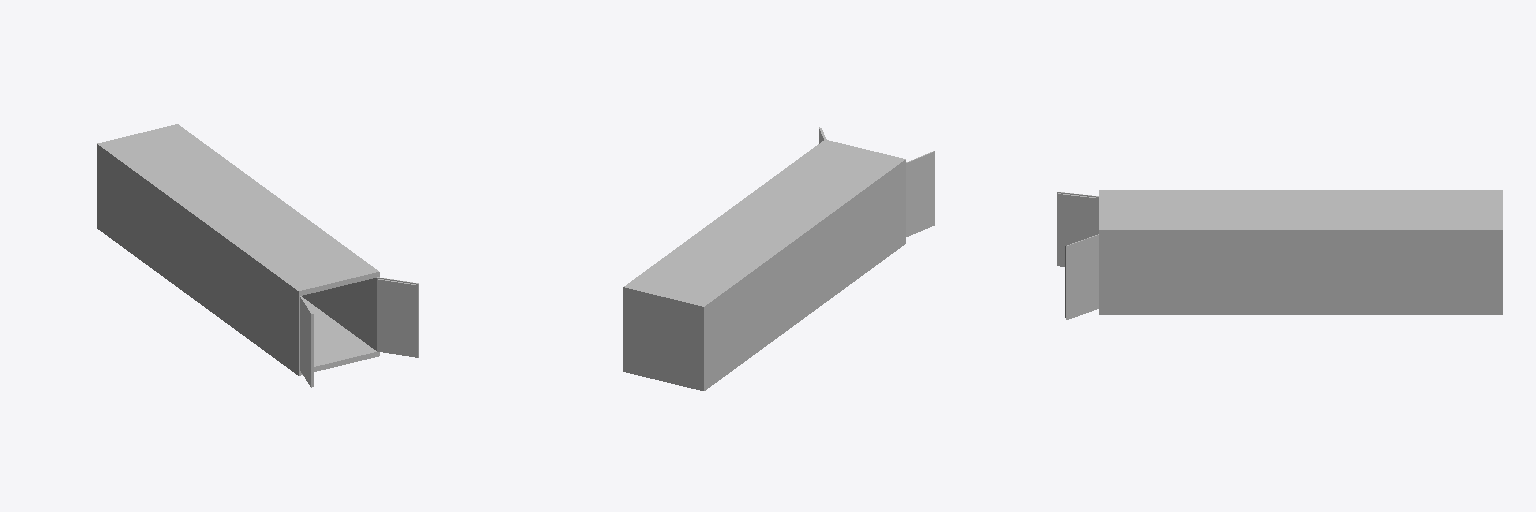
The model's file is shipping_container_mx_1_hollow_1_2.obj.
3 views of the same model, side by side, from view 1: azimuth 30°, elevation 25°; view 2: azimuth 150°, elevation 25°; view 3: azimuth 270°, elevation 25° (orthographic).
Visible parts, largest first — view 1: shipping_container_mx_1_hollow_1_2, shipping_container_mx_1_hollow_1_2_door_2, shipping_container_mx_1_hollow_1_2_door_1; view 2: shipping_container_mx_1_hollow_1_2, shipping_container_mx_1_hollow_1_2_door_1; view 3: shipping_container_mx_1_hollow_1_2, shipping_container_mx_1_hollow_1_2_door_2, shipping_container_mx_1_hollow_1_2_door_1.
Part boxes in pixels (bbox=[...]): shipping_container_mx_1_hollow_1_2: bbox=[97, 124, 379, 375]; shipping_container_mx_1_hollow_1_2_door_2: bbox=[377, 277, 418, 357]; shipping_container_mx_1_hollow_1_2_door_1: bbox=[300, 296, 313, 387]; shipping_container_mx_1_hollow_1_2: bbox=[623, 140, 905, 390]; shipping_container_mx_1_hollow_1_2_door_1: bbox=[906, 151, 934, 236]; shipping_container_mx_1_hollow_1_2: bbox=[1099, 190, 1502, 314]; shipping_container_mx_1_hollow_1_2_door_2: bbox=[1065, 234, 1098, 319]; shipping_container_mx_1_hollow_1_2_door_1: bbox=[1057, 192, 1098, 266].
Size of the model in its own units: 3.46 by 2.5 by 11.94.